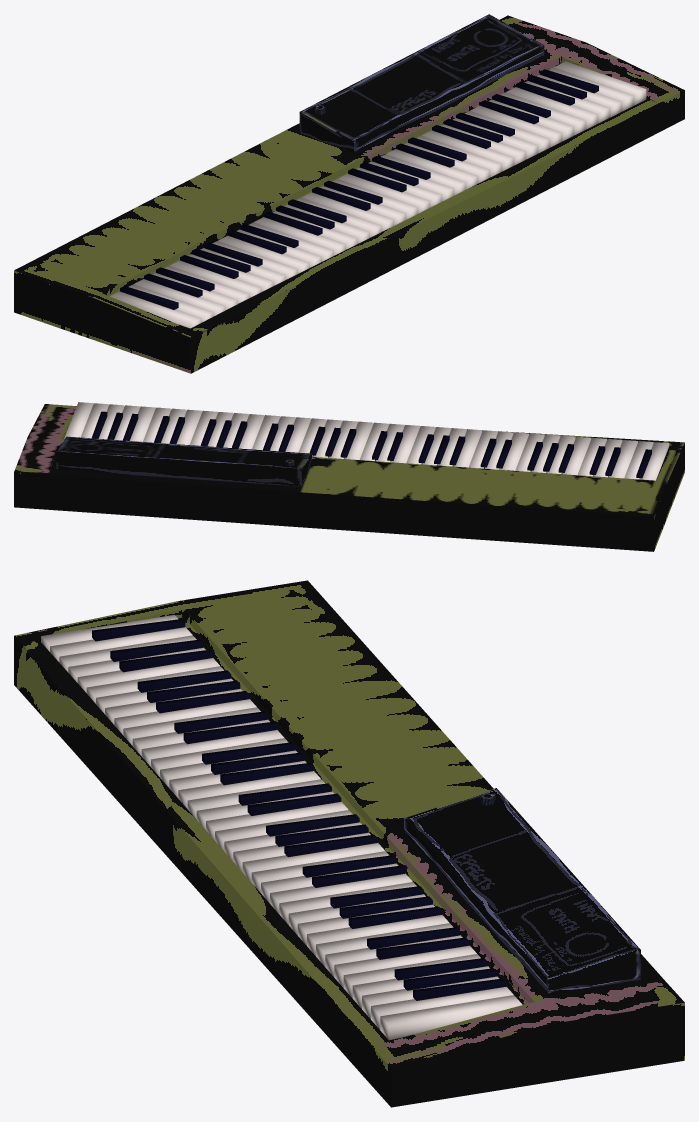
File: piano.glb
3 views of the same model, one above another, from view 1: azimuth 30°, elevation 25°; view 2: azimuth 150°, elevation 25°; view 3: azimuth 270°, elevation 25° (orthographic). The views are drawn at different scales.
Parts seen in each view (by area): view 1: piano, GN Instance (×32); view 2: piano, GN Instance (×38); view 3: piano, GN Instance (×64).
Part boxes in pixels (x1,y1,x2,y2): piano: (14,14,684,373); GN Instance (×32): (110,61,646,328); piano: (14,404,684,551); GN Instance (×38): (64,402,669,480); piano: (14,580,684,1107); GN Instance (×64): (41,615,522,1040).
Bounding box in the file's own units: 0.8832 × 0.0798 × 0.5335.
Materials: 5 (3 with a texture image).
